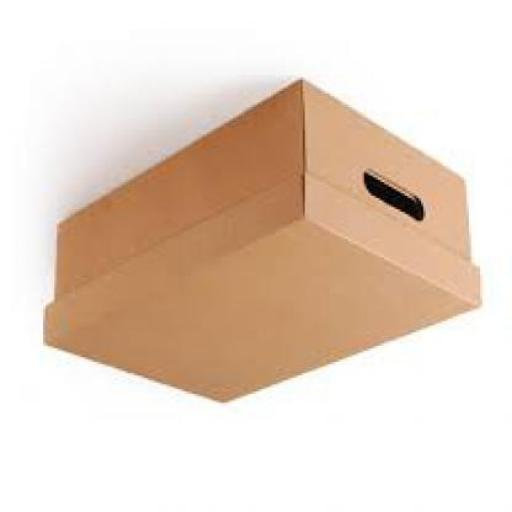cardboard: (43, 82, 483, 405)
